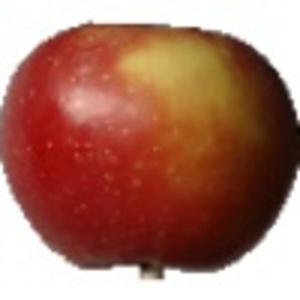maçã braeburn: (1, 20, 300, 274)
